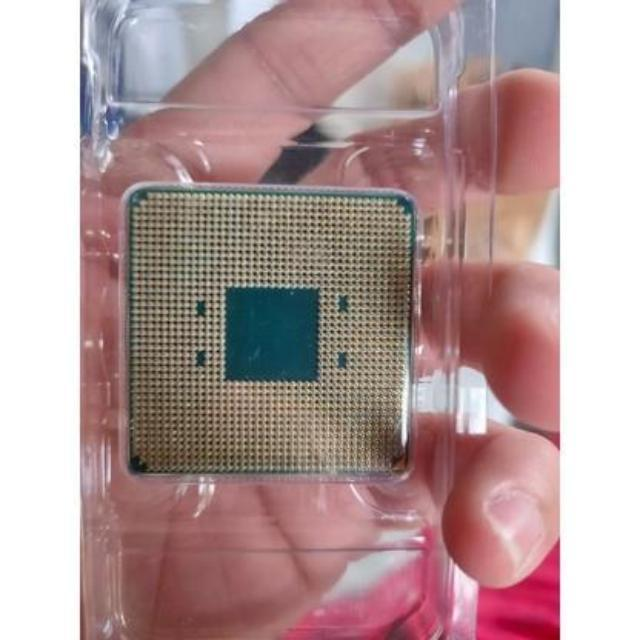CPU: (126, 188, 412, 482)
